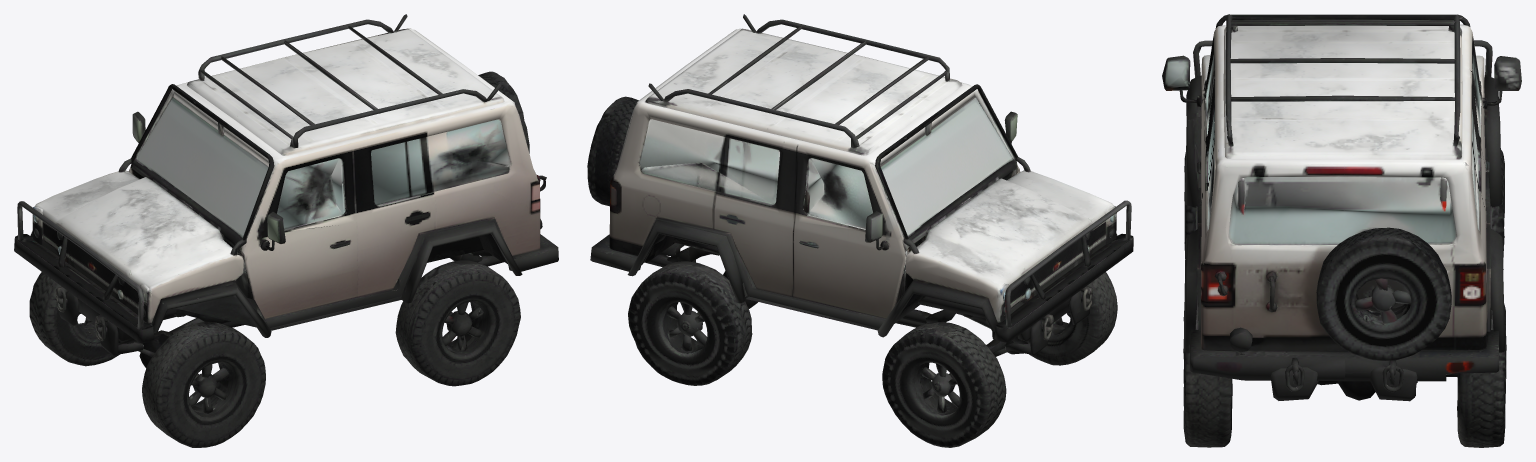
File: suv.glb
3 views of the same model, side by side, from view 1: azimuth 30°, elevation 25°; view 2: azimuth 150°, elevation 25°; view 3: azimuth 270°, elevation 25° (orthographic). The views are drawn at different scales.
Size of the model in its own units: 1 by 0.6119 by 0.585.
1 material, 1 textured.
